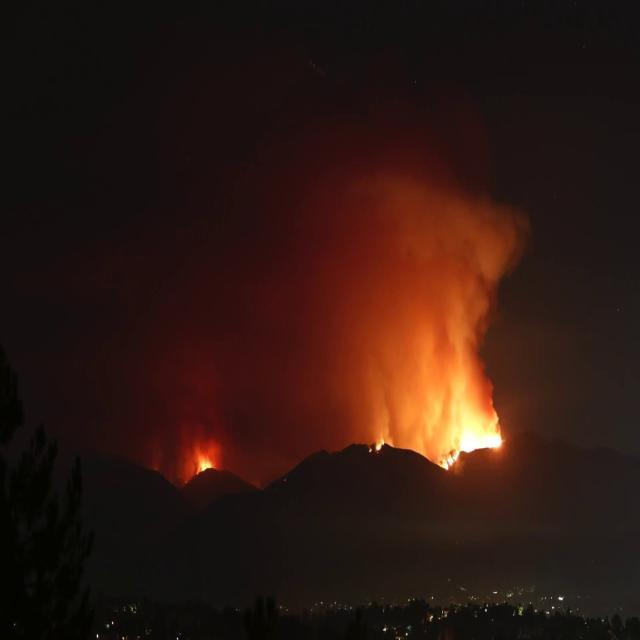Fire: (437, 420, 497, 474), (464, 404, 508, 451), (198, 456, 213, 472), (370, 438, 384, 452), (438, 456, 446, 466), (448, 451, 454, 464), (378, 442, 382, 449)
Smoke: (380, 150, 538, 336)
